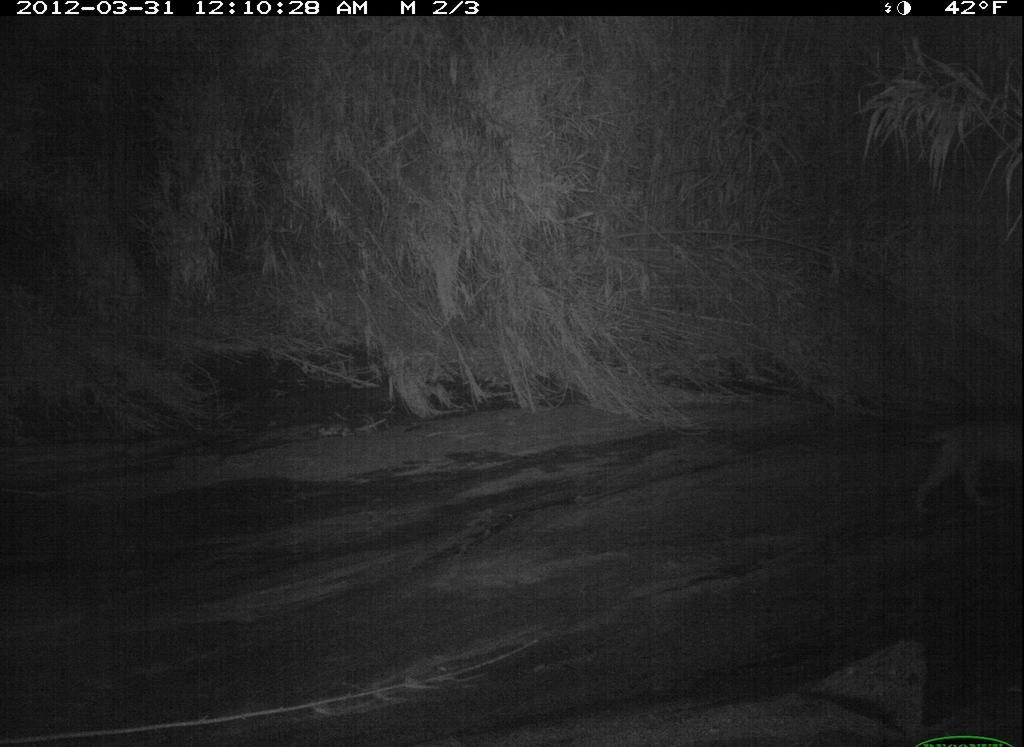bobcat: (902, 405, 1023, 533)
